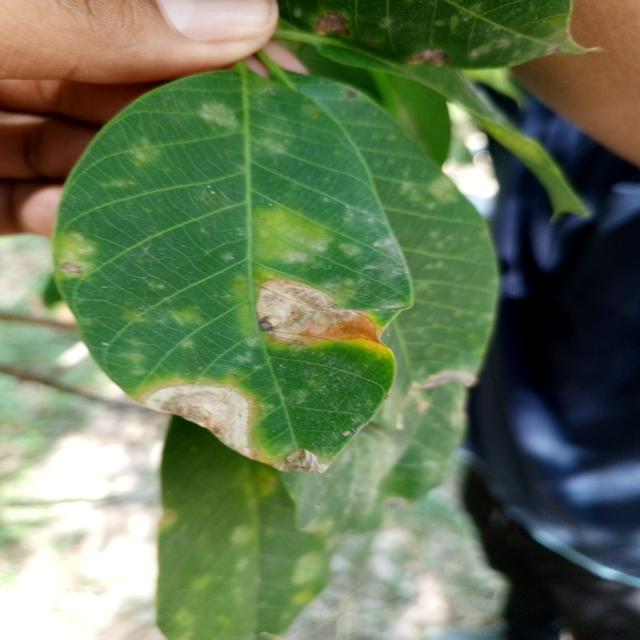Colletotrichum: (258, 320, 272, 331)
Leaf-Blight: (256, 277, 387, 347), (142, 383, 256, 460), (272, 448, 328, 473)
